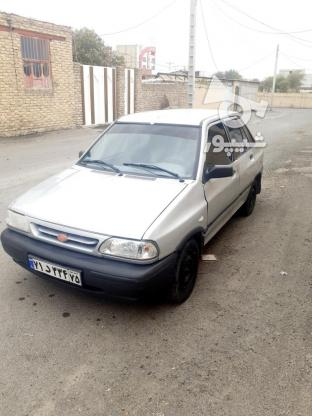car: (29, 253, 83, 287)
